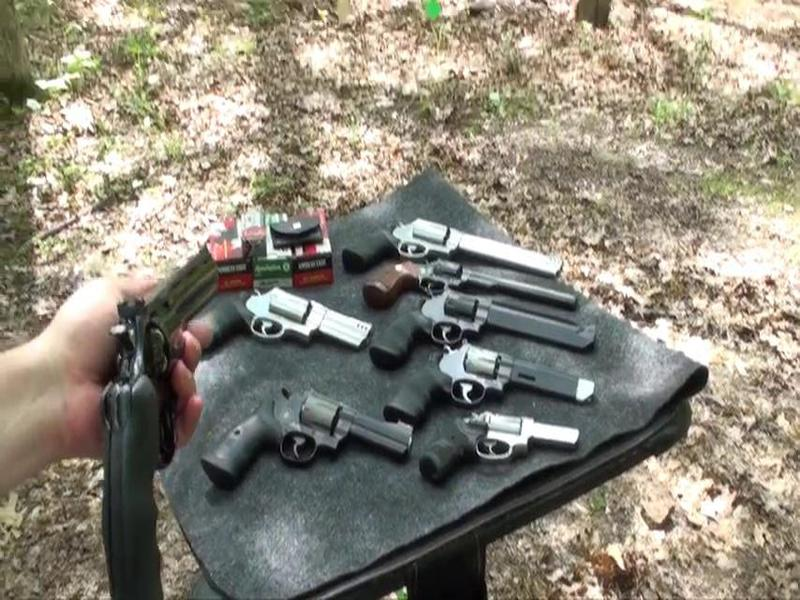Revolver: (95, 242, 244, 586)
